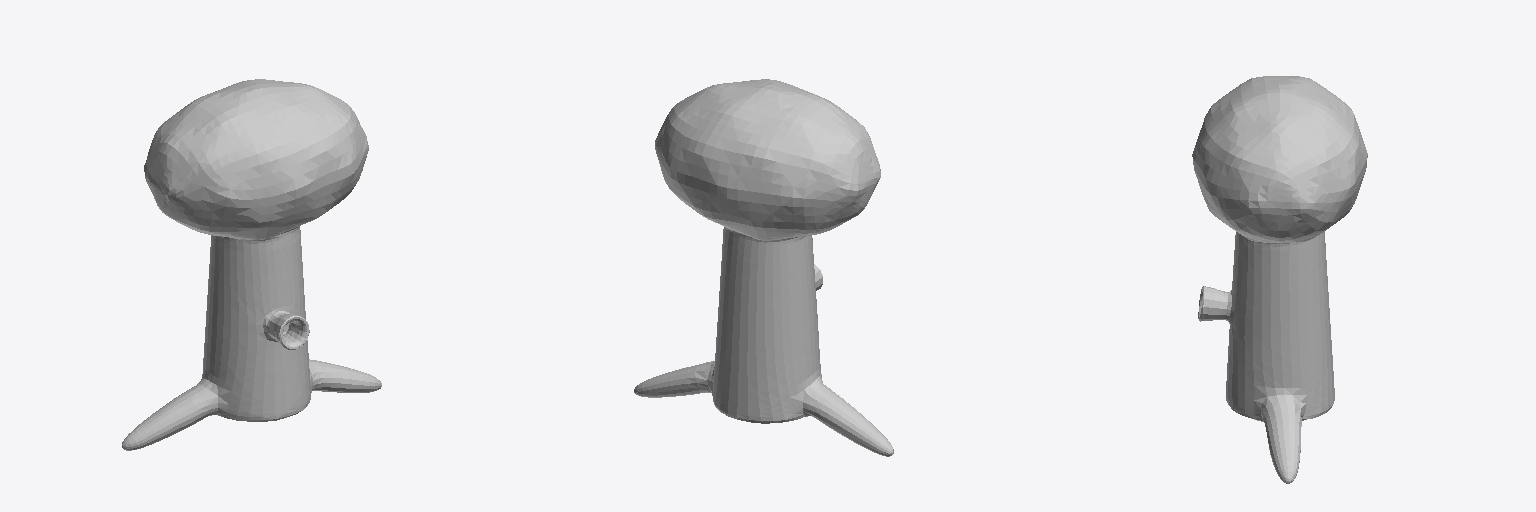
The model's file is jablon.obj.
The picture shows the model from 3 angles: view 1: azimuth 30°, elevation 25°; view 2: azimuth 150°, elevation 25°; view 3: azimuth 270°, elevation 25°; orthographic projection.
Visible parts, largest first — view 1: sfere_do_zbejk_Baked; view 2: sfere_do_zbejk_Baked; view 3: sfere_do_zbejk_Baked.
Boxes of the visible parts, x1=… form: sfere_do_zbejk_Baked: x1=122, y1=79, x2=381, y2=450; sfere_do_zbejk_Baked: x1=634, y1=79, x2=893, y2=456; sfere_do_zbejk_Baked: x1=1192, y1=76, x2=1367, y2=483.
Bounding box in the file's own units: 3.62 × 4.45 × 2.12.